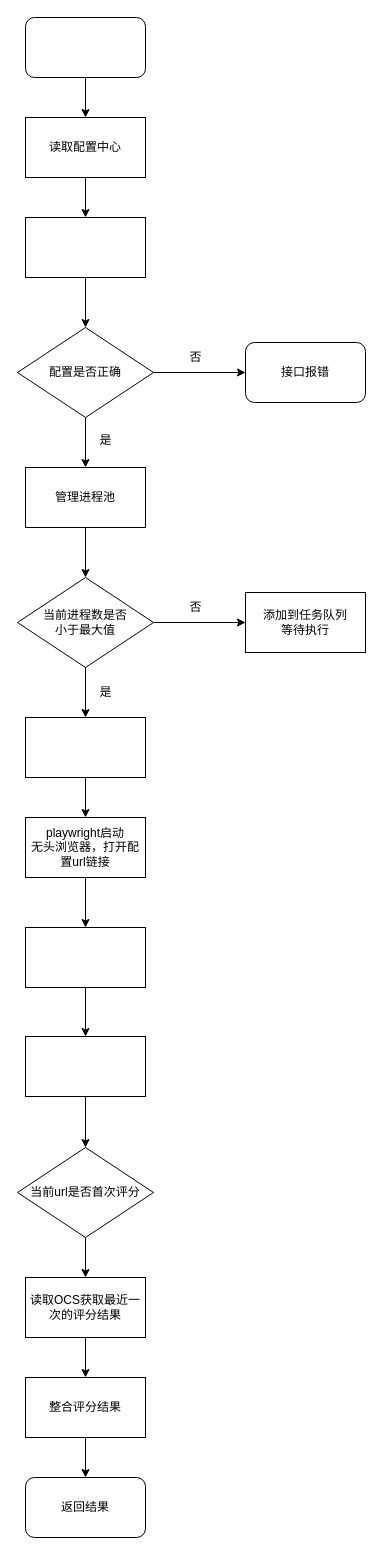
This 383x1555 diagram has some shape labels left out. Here are the shapes that lost their labels. From the top down, the centre of each, then its label:
pixel 85 47: 开始调用接口
pixel 85 247: 获取配置 （评分url、网速）
pixel 85 747: 衍生子进程 执行任务
pixel 85 957: 基于lighthouse能力模拟配置网速进行评分
pixel 85 1066: 将打分结果和评分报告存储到OCS
